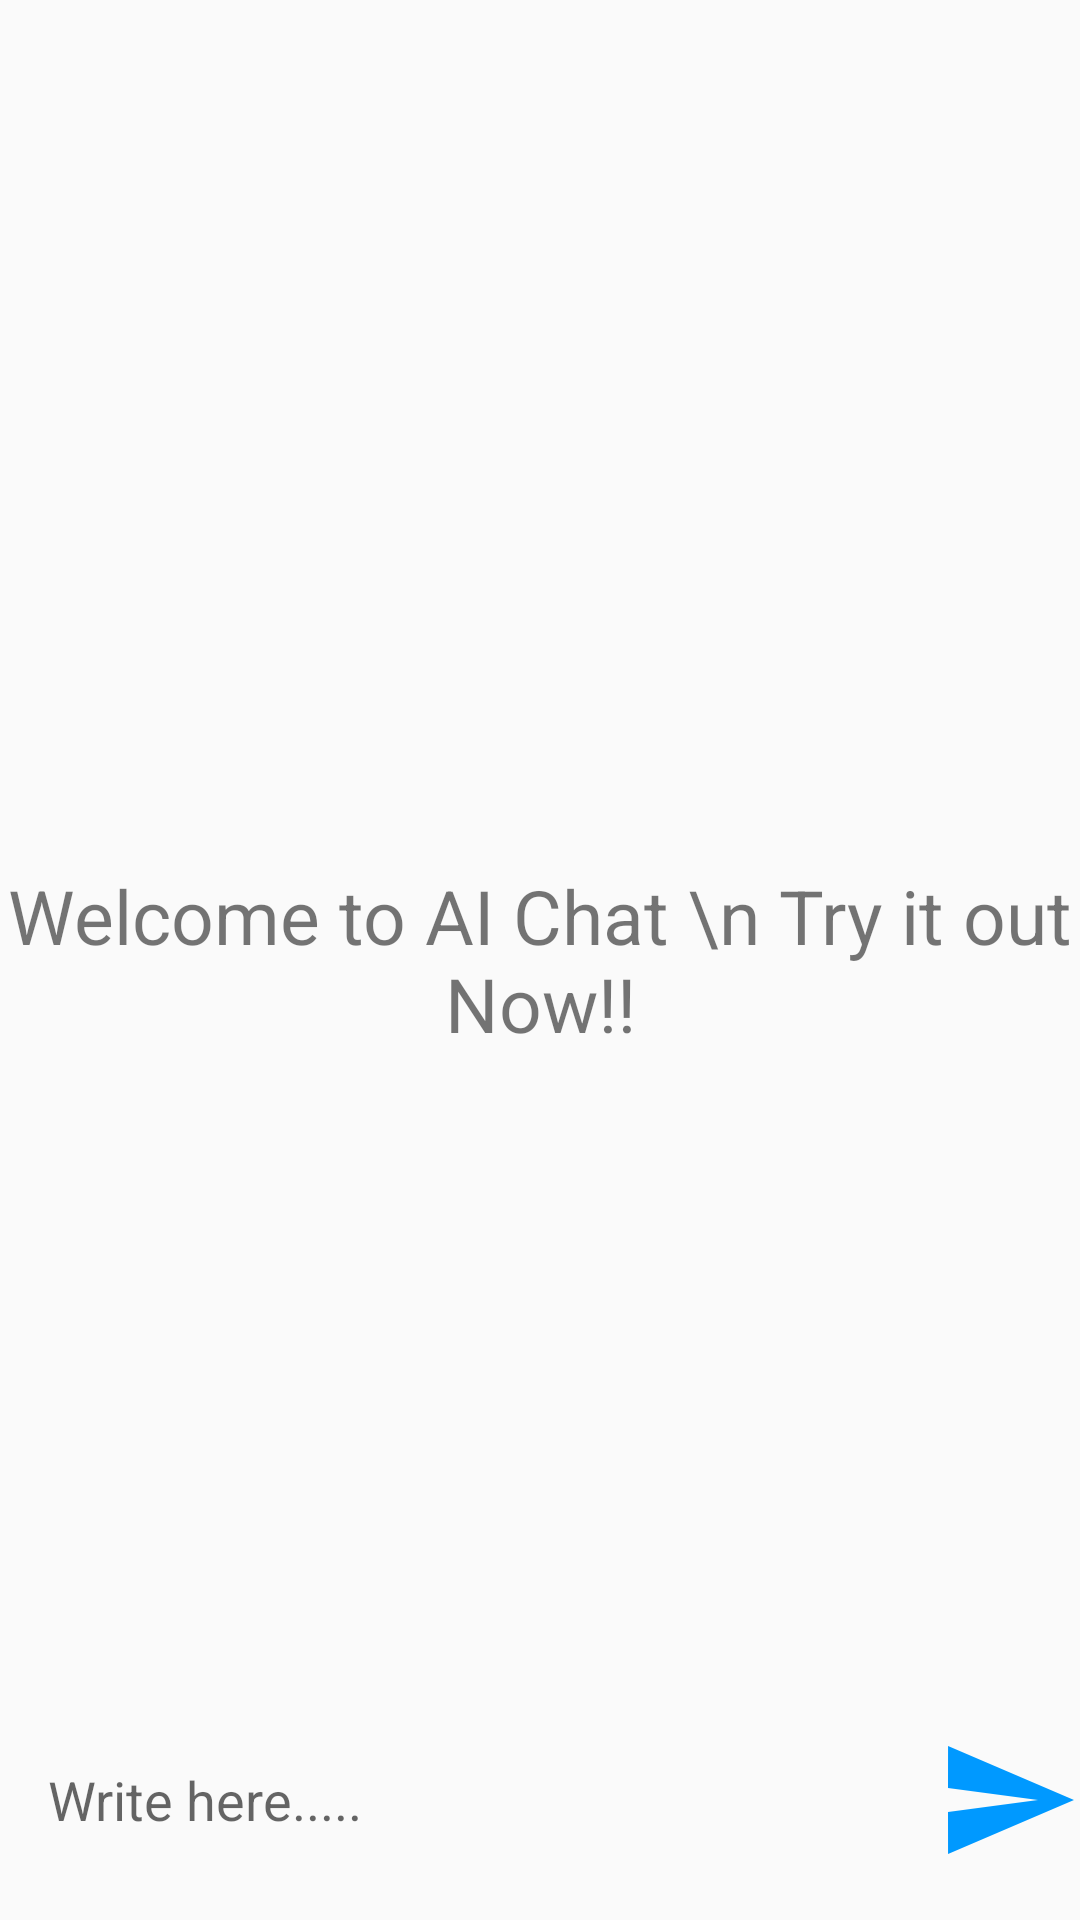

Named icons in this screenshot (1080px×1920px) and their centers, point (x, y):
send: point (1011, 1800)
